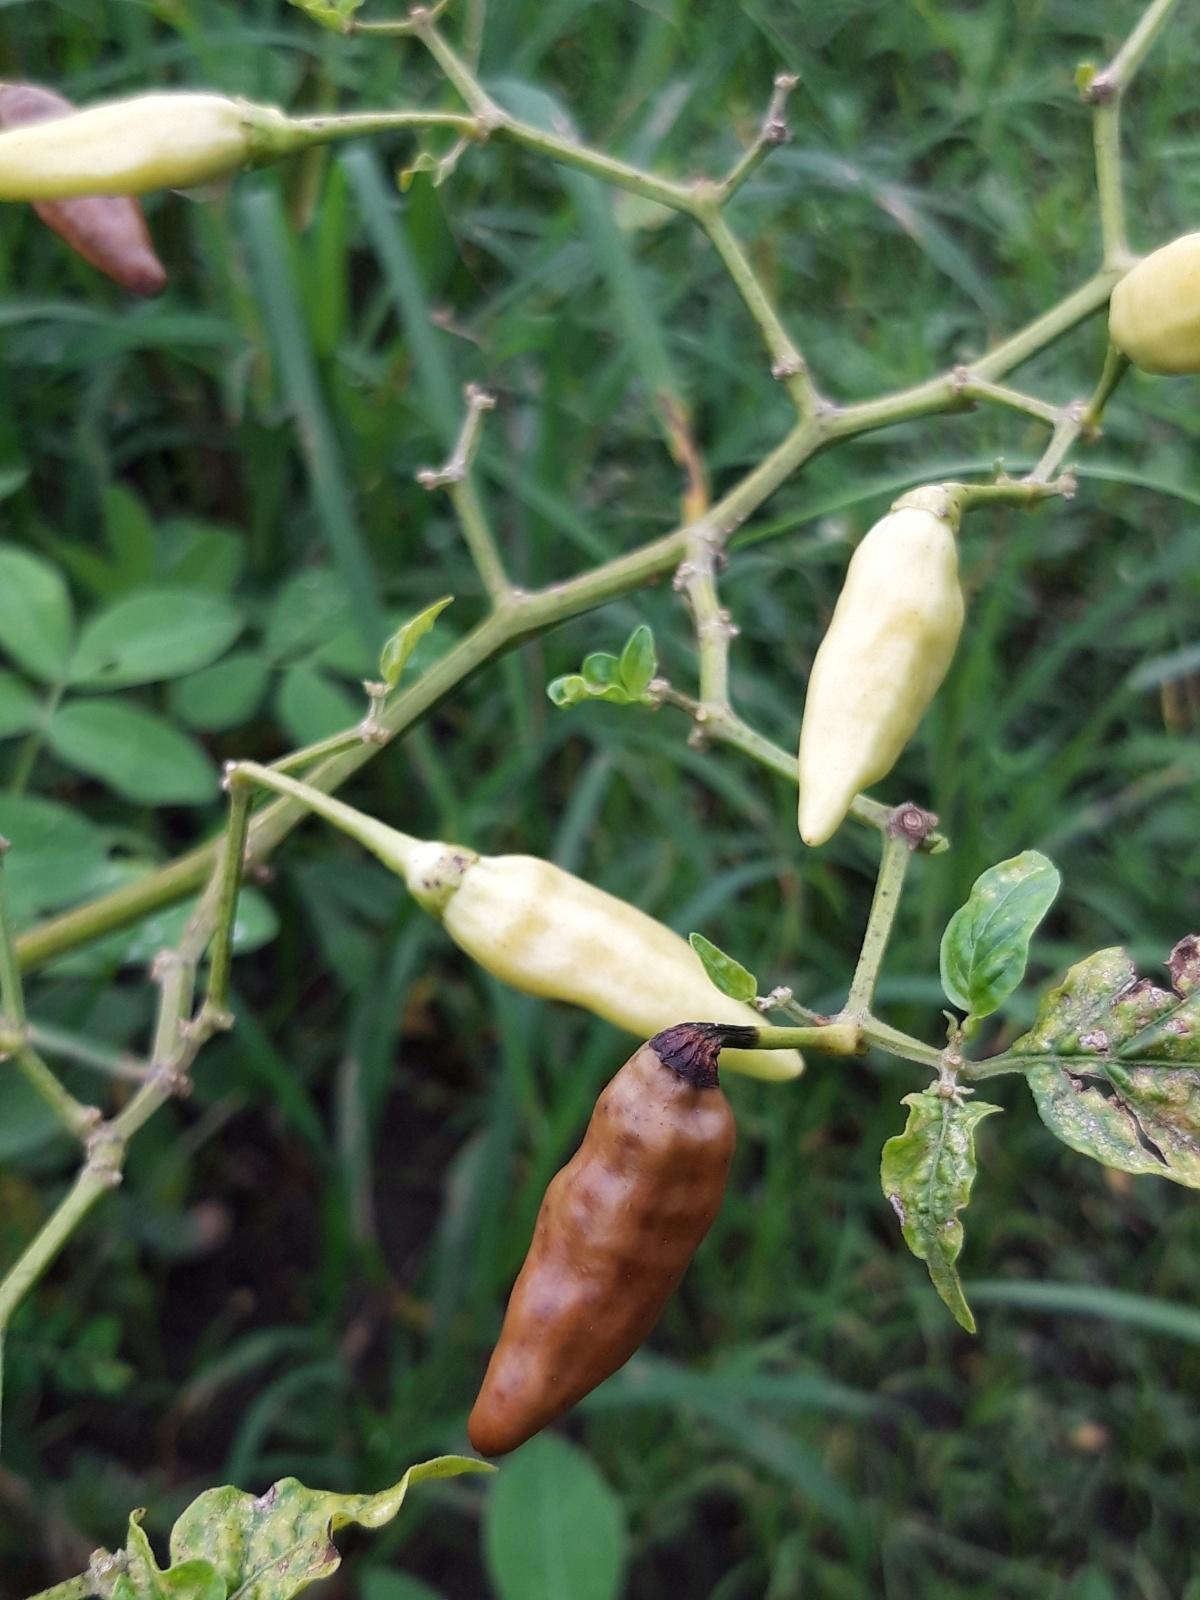cabai_normal: (406, 833, 811, 1085), (784, 479, 963, 852), (1, 90, 296, 199)
lalat_buah: (468, 1020, 735, 1458), (0, 80, 169, 300)
